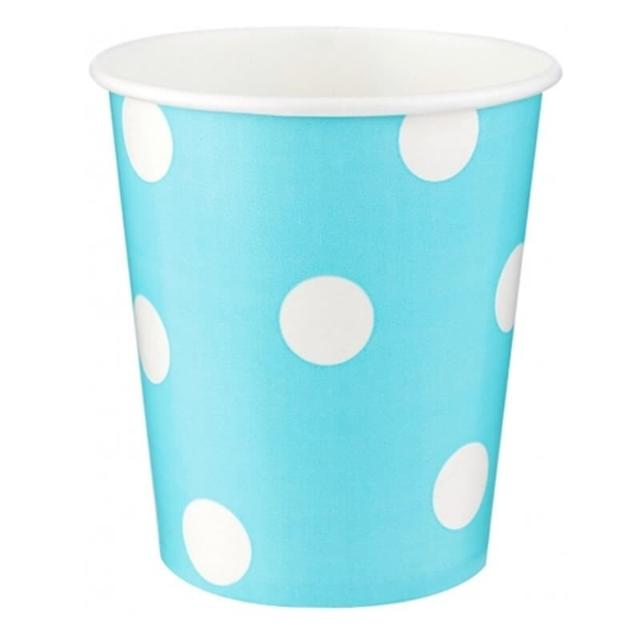trash: (78, 18, 564, 614)
